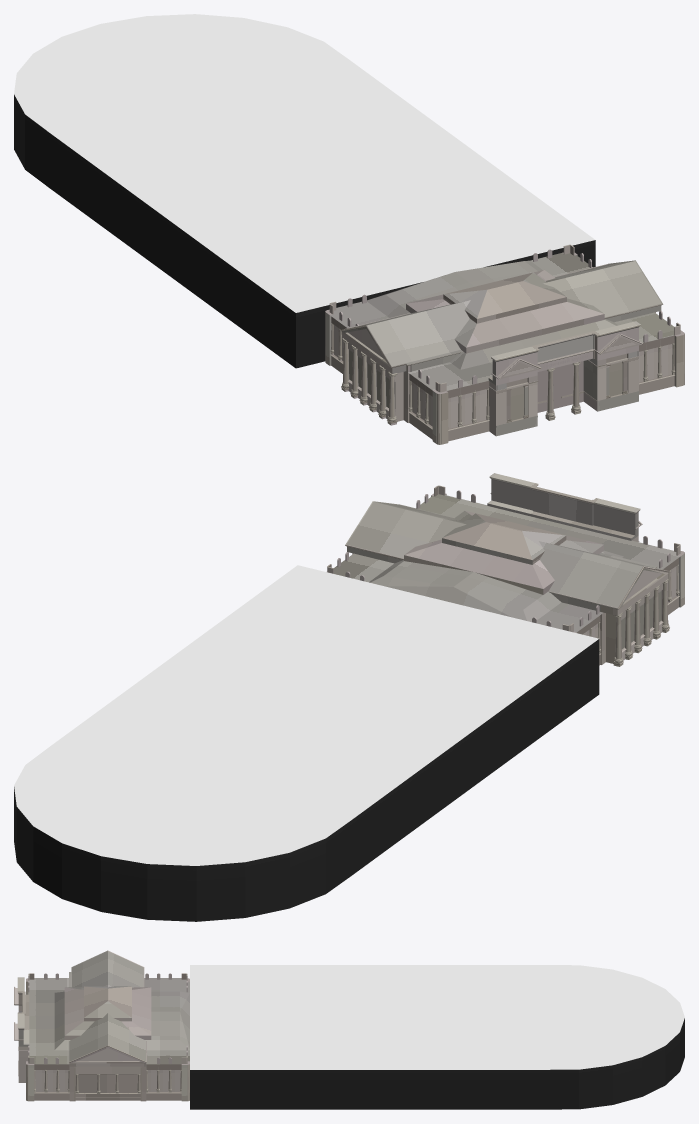
3 views of the same model, one above another, from view 1: azimuth 30°, elevation 25°; view 2: azimuth 150°, elevation 25°; view 3: azimuth 270°, elevation 25° (orthographic). The views are drawn at different scales.
Parts seen in each view (by area): view 1: Untitled; view 2: Untitled; view 3: Untitled.
Boxes of the visible parts, bbox=[...] form: Untitled: bbox=[14, 14, 684, 444]; Untitled: bbox=[14, 473, 684, 921]; Untitled: bbox=[14, 950, 684, 1109].
Bounding box in the file's own units: 19.24 × 5.4 × 52.05.
4 materials, 3 textured.
